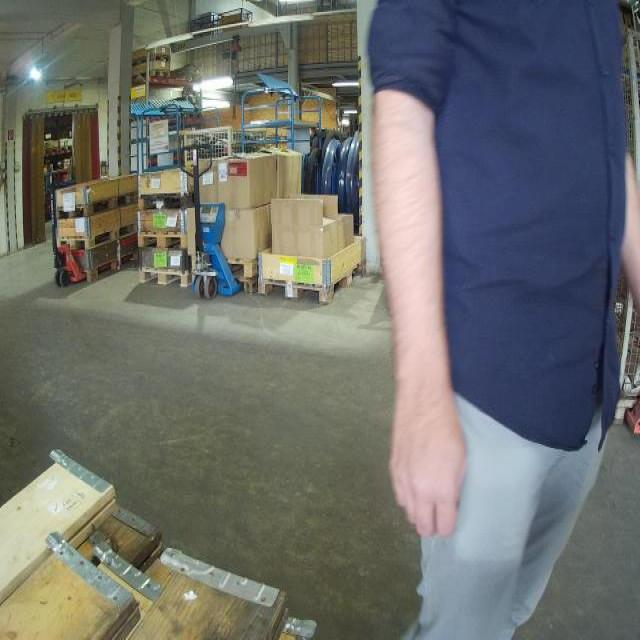pallet: (256, 259, 367, 308), (57, 219, 137, 255), (55, 188, 138, 222), (80, 249, 139, 285), (136, 264, 190, 291), (137, 191, 195, 214), (137, 230, 189, 253), (131, 53, 171, 69), (128, 69, 170, 81)
pallet_truck: (174, 133, 246, 301), (41, 165, 97, 288)
stillage: (607, 276, 637, 444), (177, 125, 253, 173), (626, 27, 639, 169)
